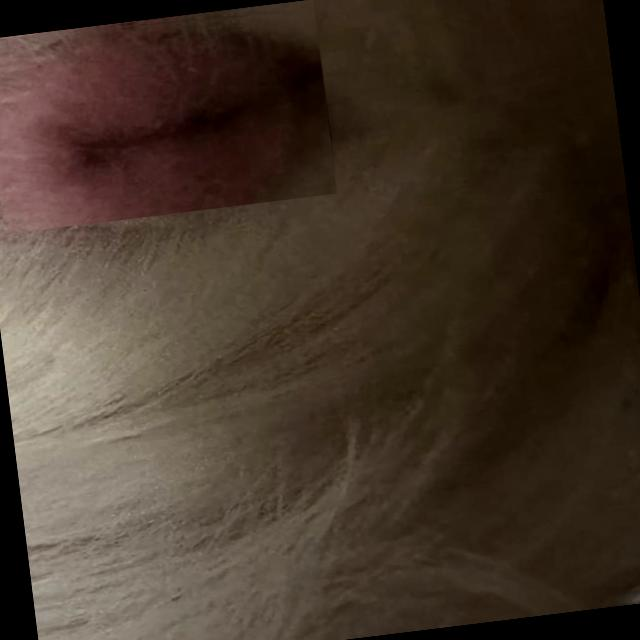fem: (0, 7, 336, 234)
